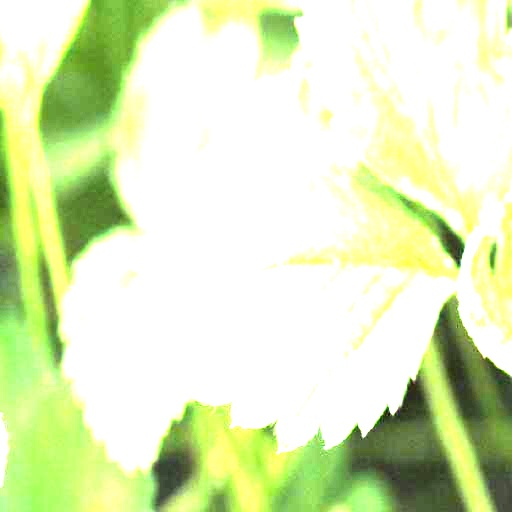Powdery Mildew Leaf: (124, 121, 457, 455), (291, 0, 511, 247), (456, 194, 511, 373)
